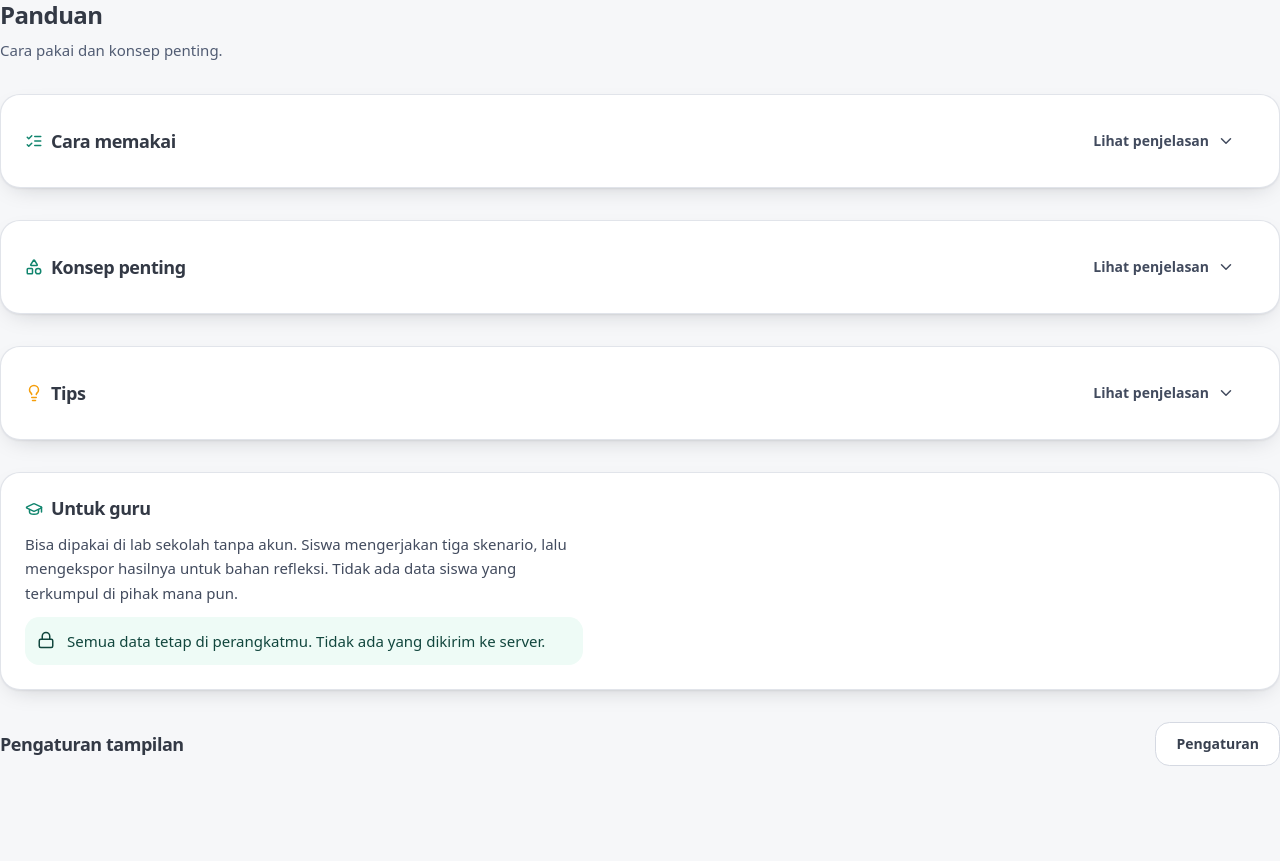
Test case: GuidePage — konten panduan › menampilkan konsep penting setelah accordion dibuka
Click the 2nd button "Lihat penjelasan" at {"x": 1164, "y": 267}, box [1073,245,1255,289]
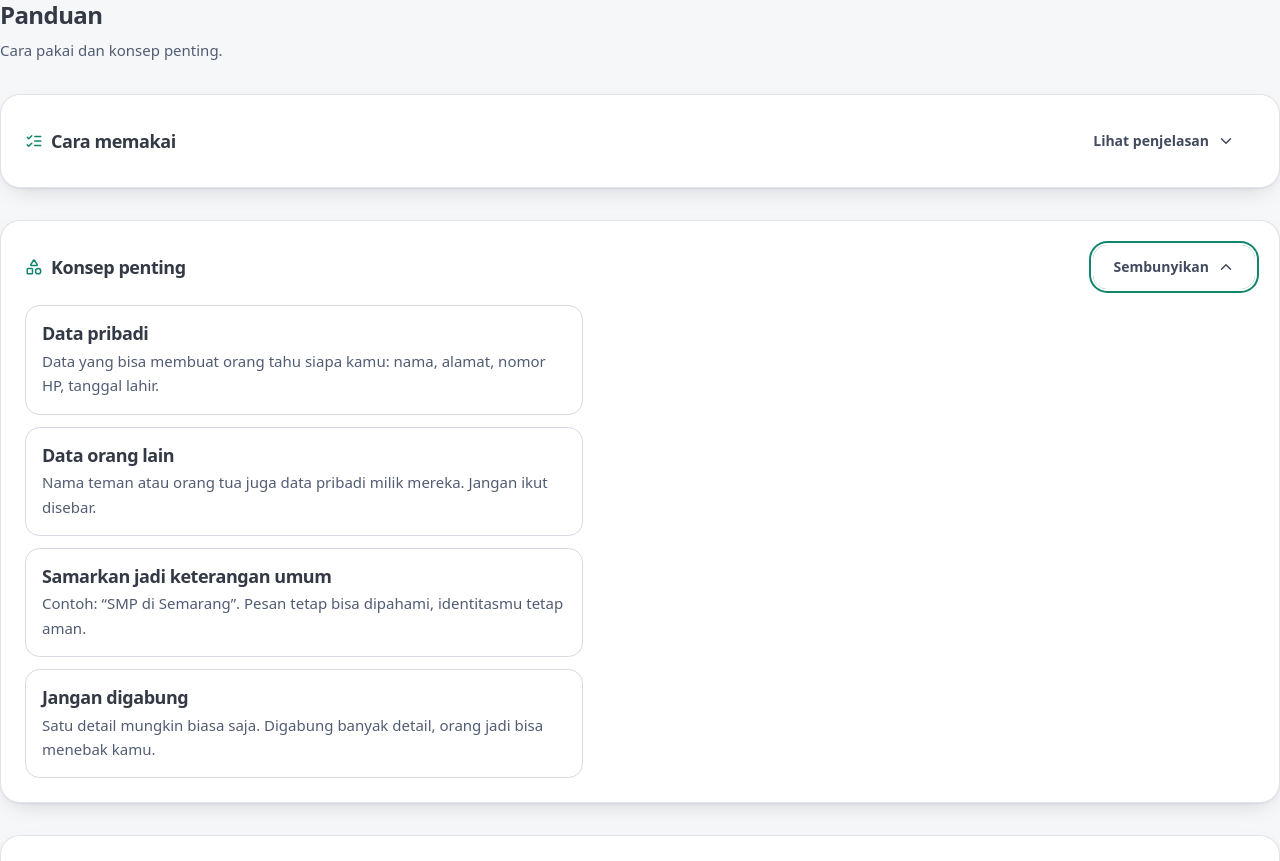
expect the button "Sembunyikan" is expanded: met, box [1093,245,1255,289]
expect the number of list items is 4: met, box [25,305,583,415]; [25,427,583,536]; [25,548,583,657]; [25,669,583,778]
expect the heading "Data pribadi" is shown: met, box [42,321,148,345]
